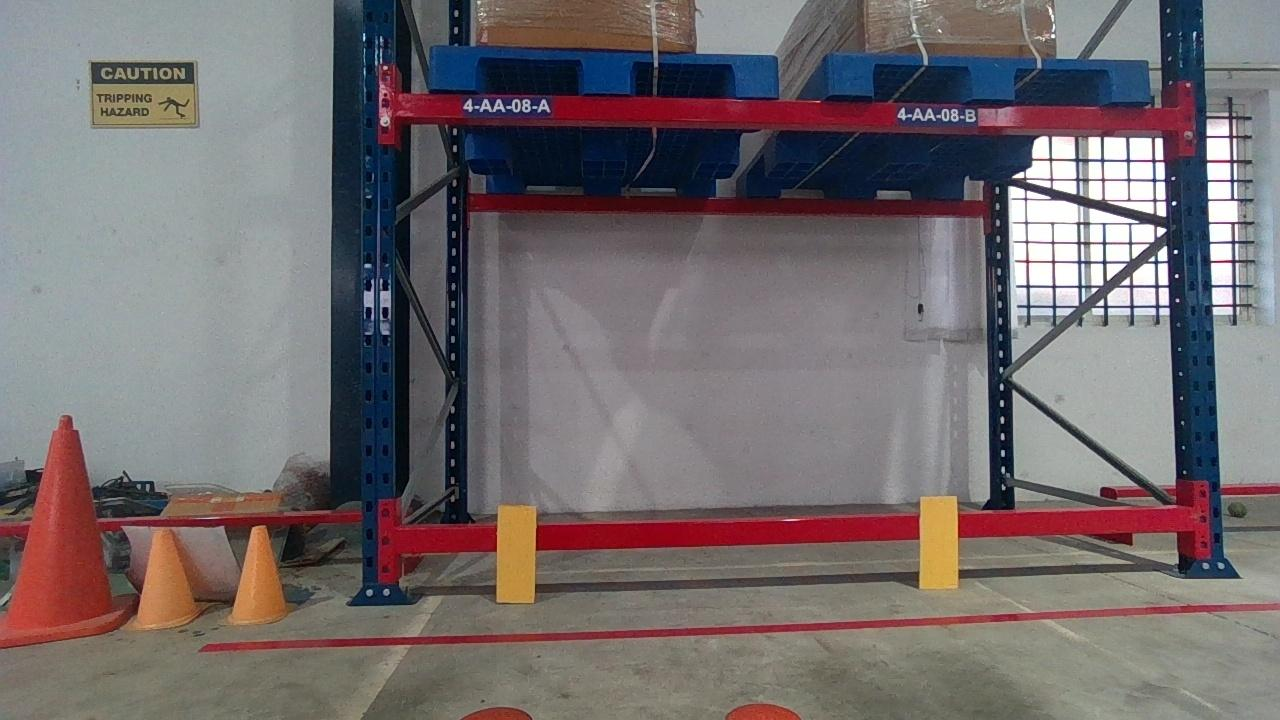h_rack: (395, 505, 1188, 554), (398, 90, 1180, 132)
orange_strip: (496, 505, 537, 601), (918, 494, 958, 587)
red_line: (198, 595, 1280, 655)
small_pallet: (427, 48, 779, 93), (819, 54, 1152, 101)
